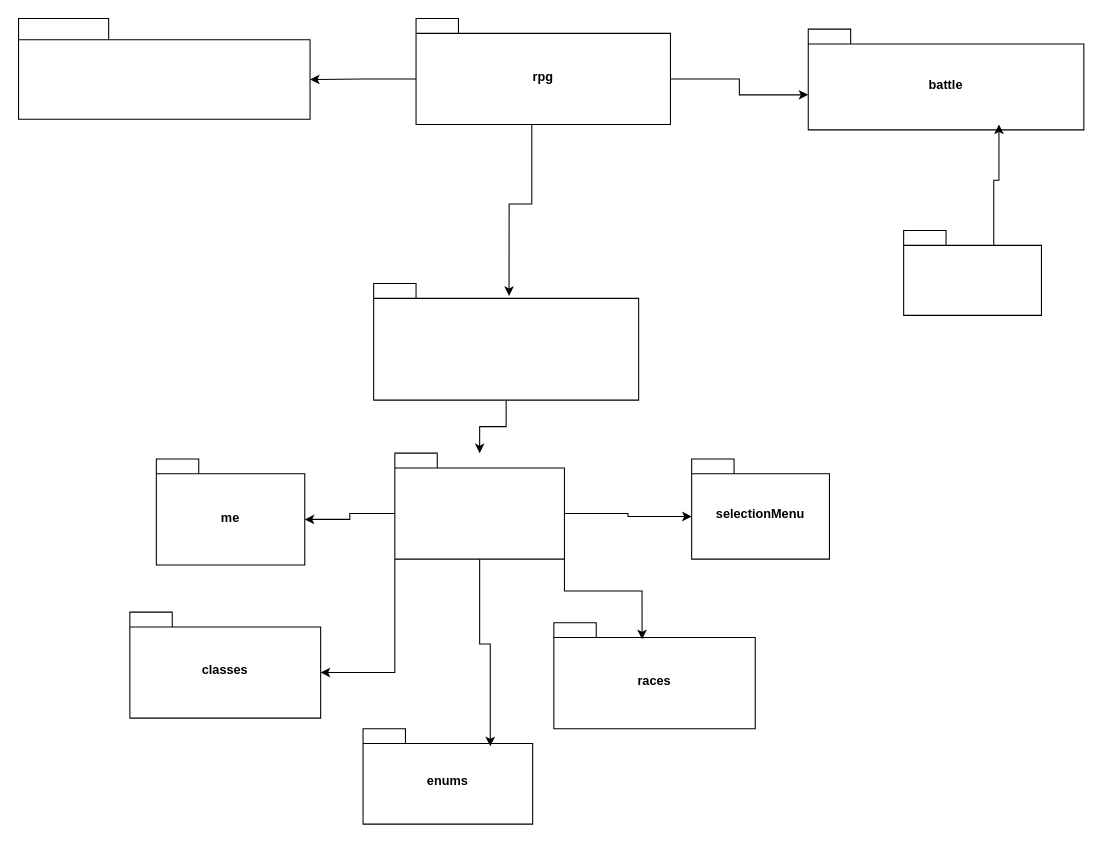
Some shapes in this 1102 by 843 pixel diagram are drawn without their labels. The shapes that lost their labels are listed below. From the top down, each one's centre as x and y in pixels, then its label:
the point at 163,68: gui
the point at 972,272: lib
the point at 506,341: CharacterCreation
the point at 479,505: data
